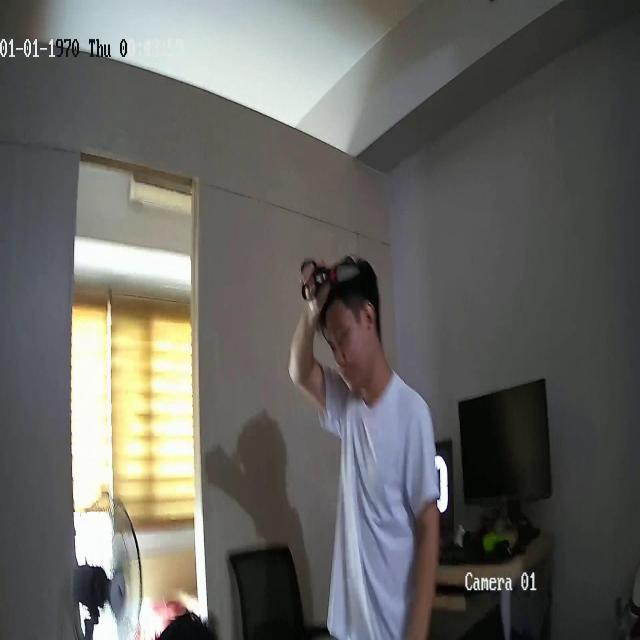scissor: (301, 256, 360, 302)
